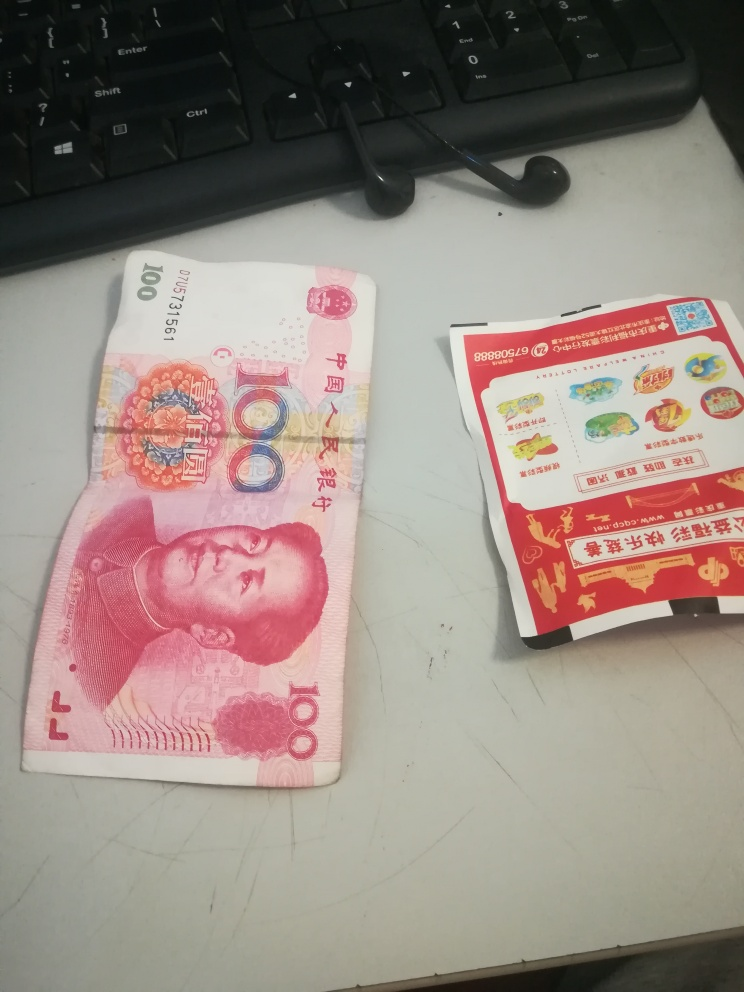rmb: (17, 252, 379, 799)
